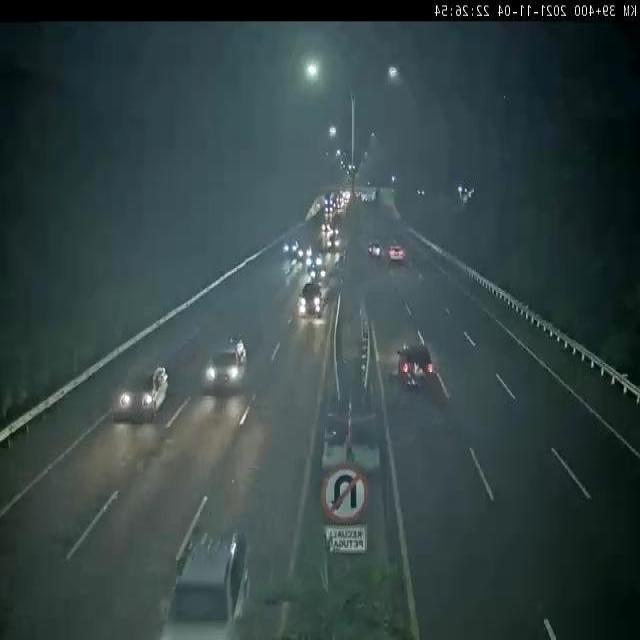Car: (177, 522, 268, 640), (193, 325, 259, 404), (113, 362, 179, 430), (392, 328, 440, 399), (296, 275, 335, 323), (385, 231, 415, 270)
